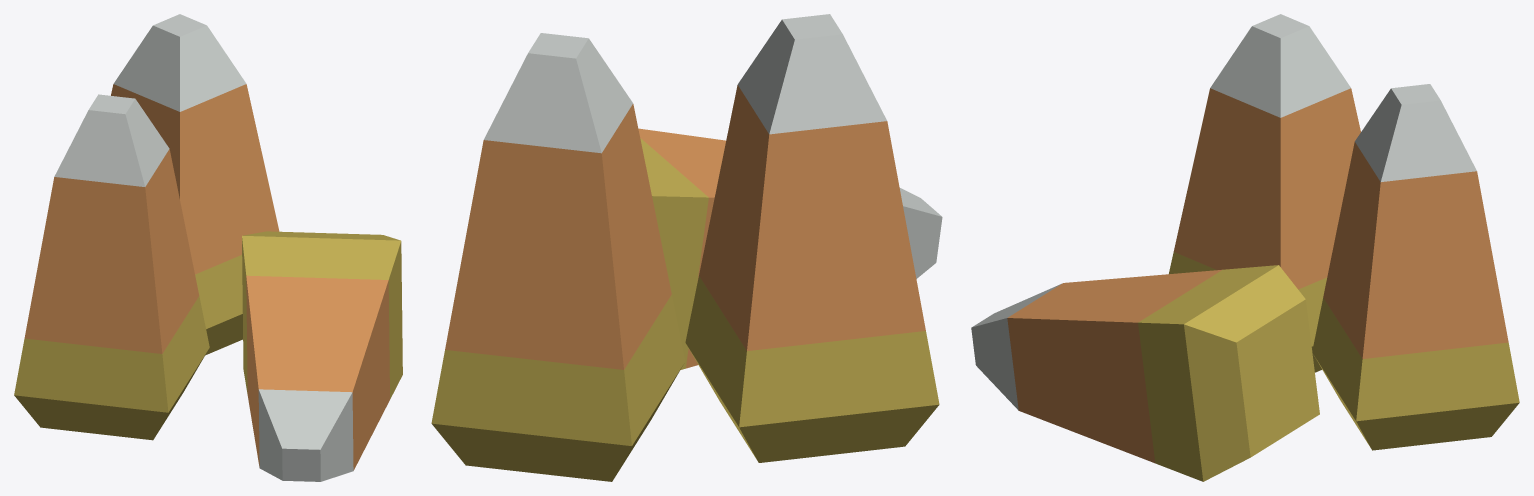
Rendered from SM_CandyCorn.fbx.
3 renders of one model, left to right at view 1: azimuth 30°, elevation 25°; view 2: azimuth 150°, elevation 25°; view 3: azimuth 270°, elevation 25°, orthographic. The views are drawn at different scales.
Visible parts, largest first — view 1: Candy_Corn; view 2: Candy_Corn; view 3: Candy_Corn.
Boxes of the visible parts, x1,y1,x2,y2 form: Candy_Corn: [14, 14, 402, 481]; Candy_Corn: [431, 14, 942, 481]; Candy_Corn: [971, 14, 1519, 481].
Bounding box in the file's own units: 0.1178 × 0.0967 × 0.1483.
